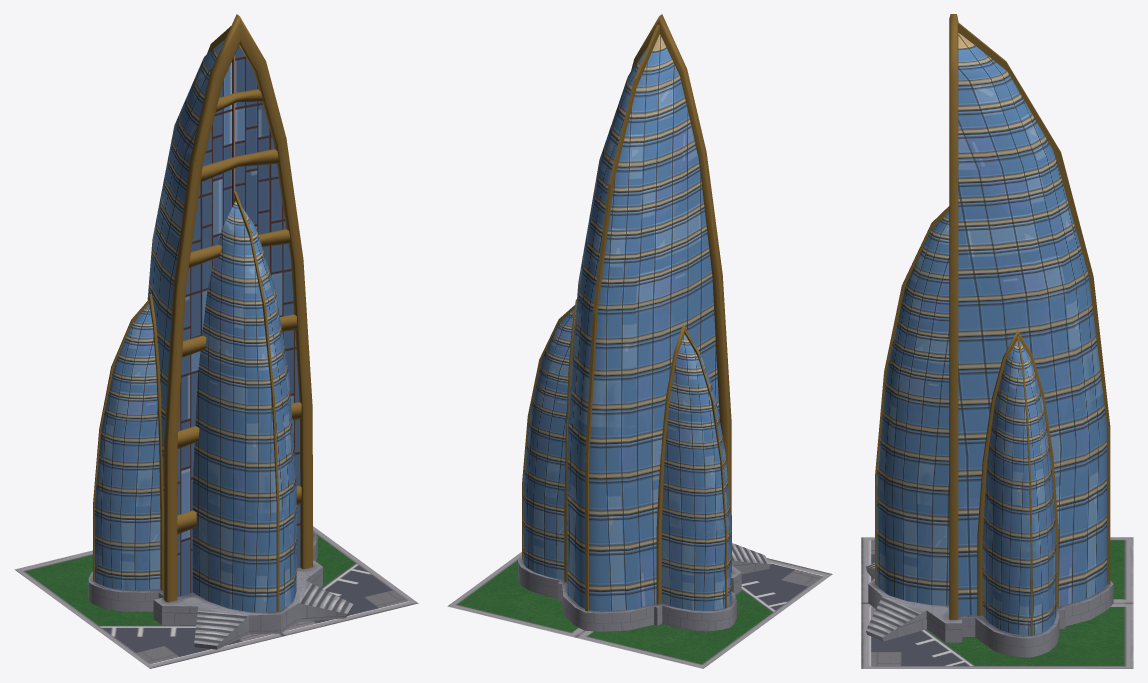
Rendered from 04_lou_init.FBX.
3 renders of one model, left to right at view 1: azimuth 30°, elevation 25°; view 2: azimuth 150°, elevation 25°; view 3: azimuth 270°, elevation 25°, orthographic. The views are drawn at different scales.
Parts seen in each view (by area): view 1: 04_lou_init001; view 2: 04_lou_init001; view 3: 04_lou_init001.
Part boxes in pixels (x1,y1,x2,y2): 04_lou_init001: (14, 14, 418, 668); 04_lou_init001: (447, 14, 832, 668); 04_lou_init001: (861, 14, 1133, 668).
Size of the model in its own units: 10050 by 21111 by 8803.
